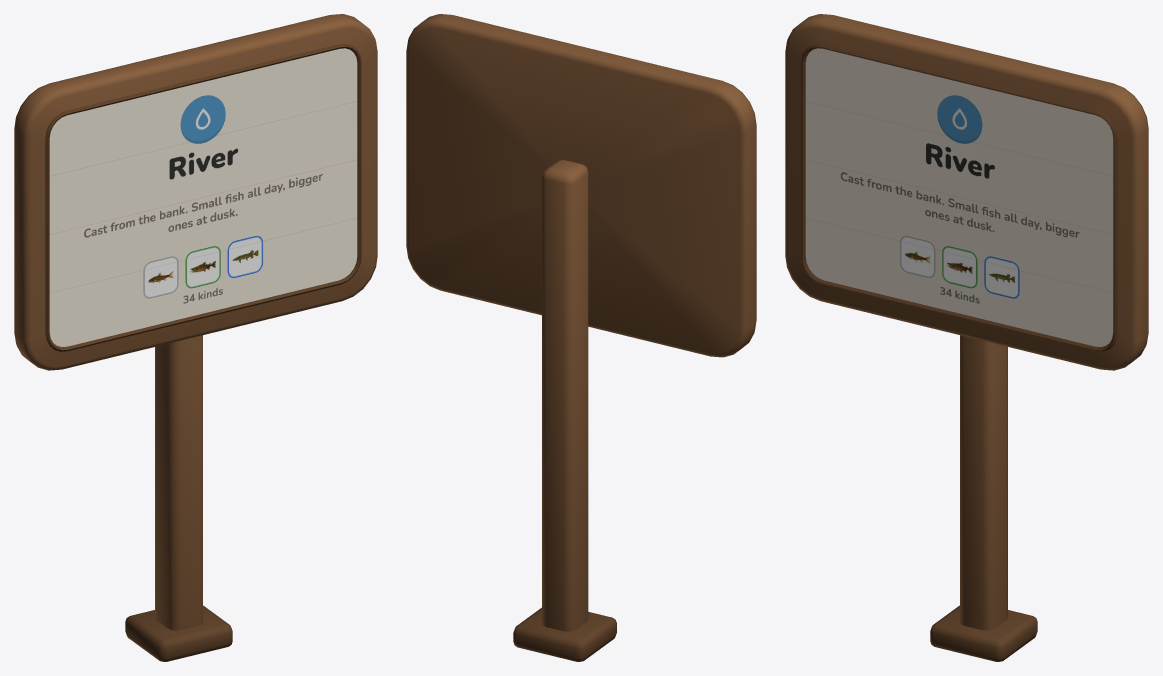
File: water-sign-river-hd.glb
3 views of the same model, side by side, from view 1: azimuth 30°, elevation 25°; view 2: azimuth 150°, elevation 25°; view 3: azimuth 330°, elevation 25° (orthographic). The views are drawn at different scales.
Parts seen in each view (by area): view 1: water-sign; view 2: water-sign; view 3: water-sign.
Boxes of the visible parts, x1,y1,x2,y2 form: water-sign: (14, 14, 377, 661); water-sign: (406, 14, 756, 661); water-sign: (785, 14, 1148, 661).
Bounding box in the file's own units: 1.15 × 1.87 × 0.253.
Materials: 2 (1 with a texture image).
